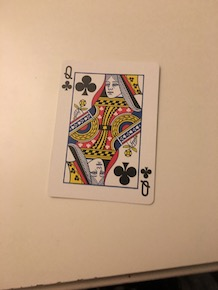QueenOfClubs: (47, 54, 160, 211)
